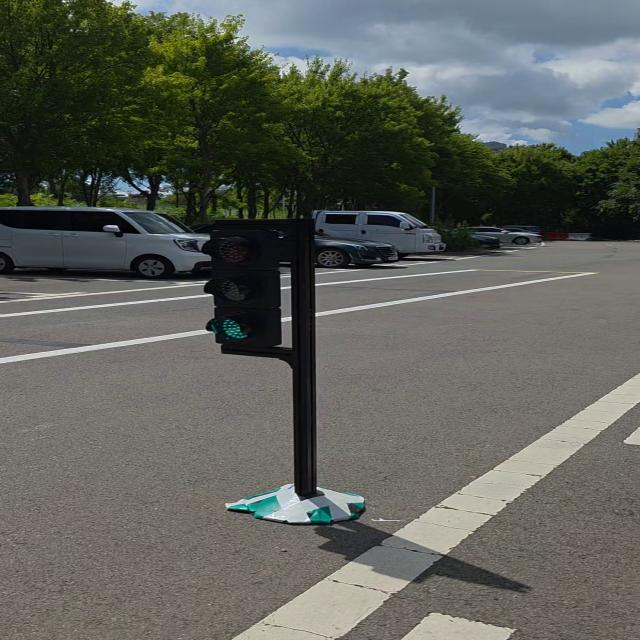green: (209, 220, 302, 357)
